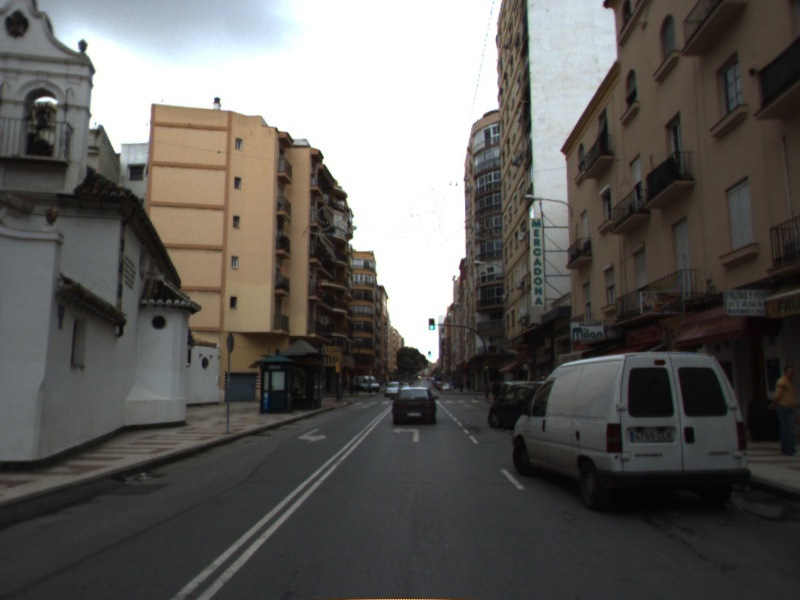LEFT: (390, 425, 421, 444)
